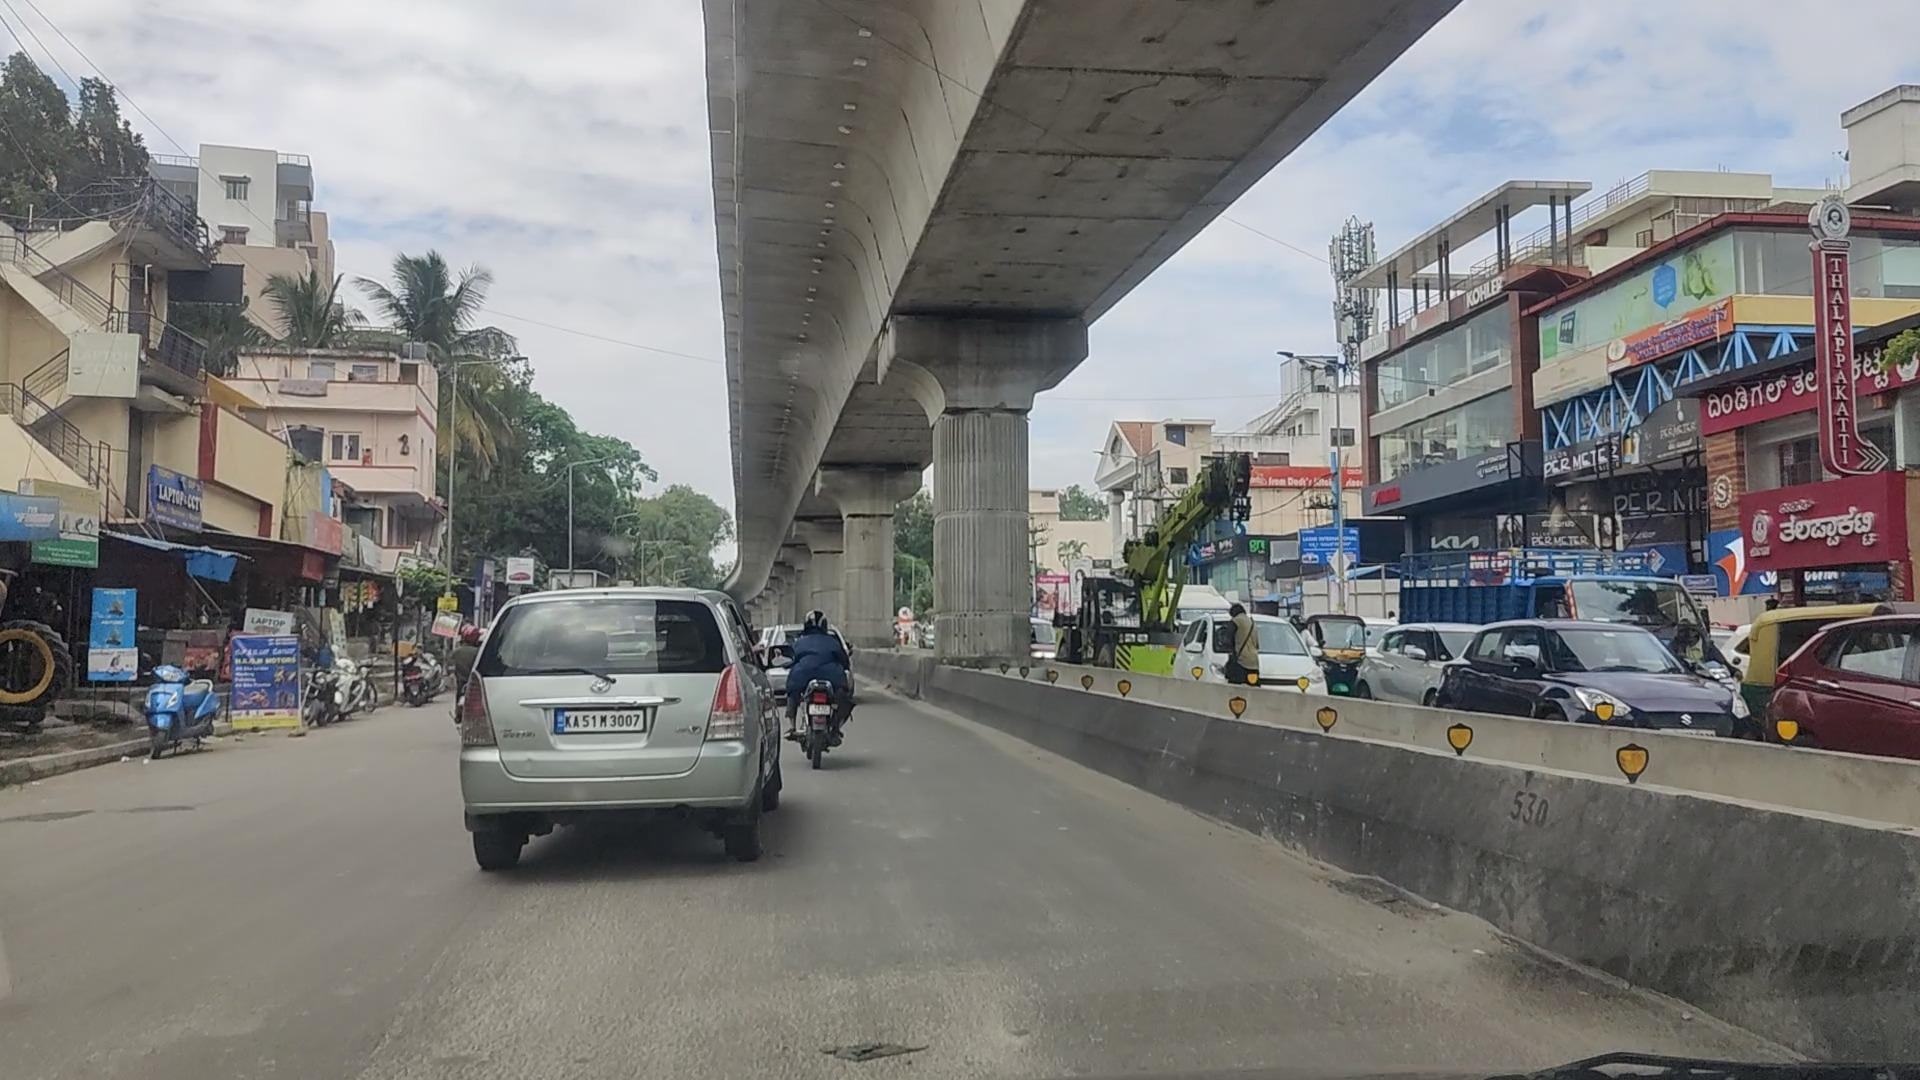LMV: (462, 579, 754, 881), (782, 603, 864, 782)
